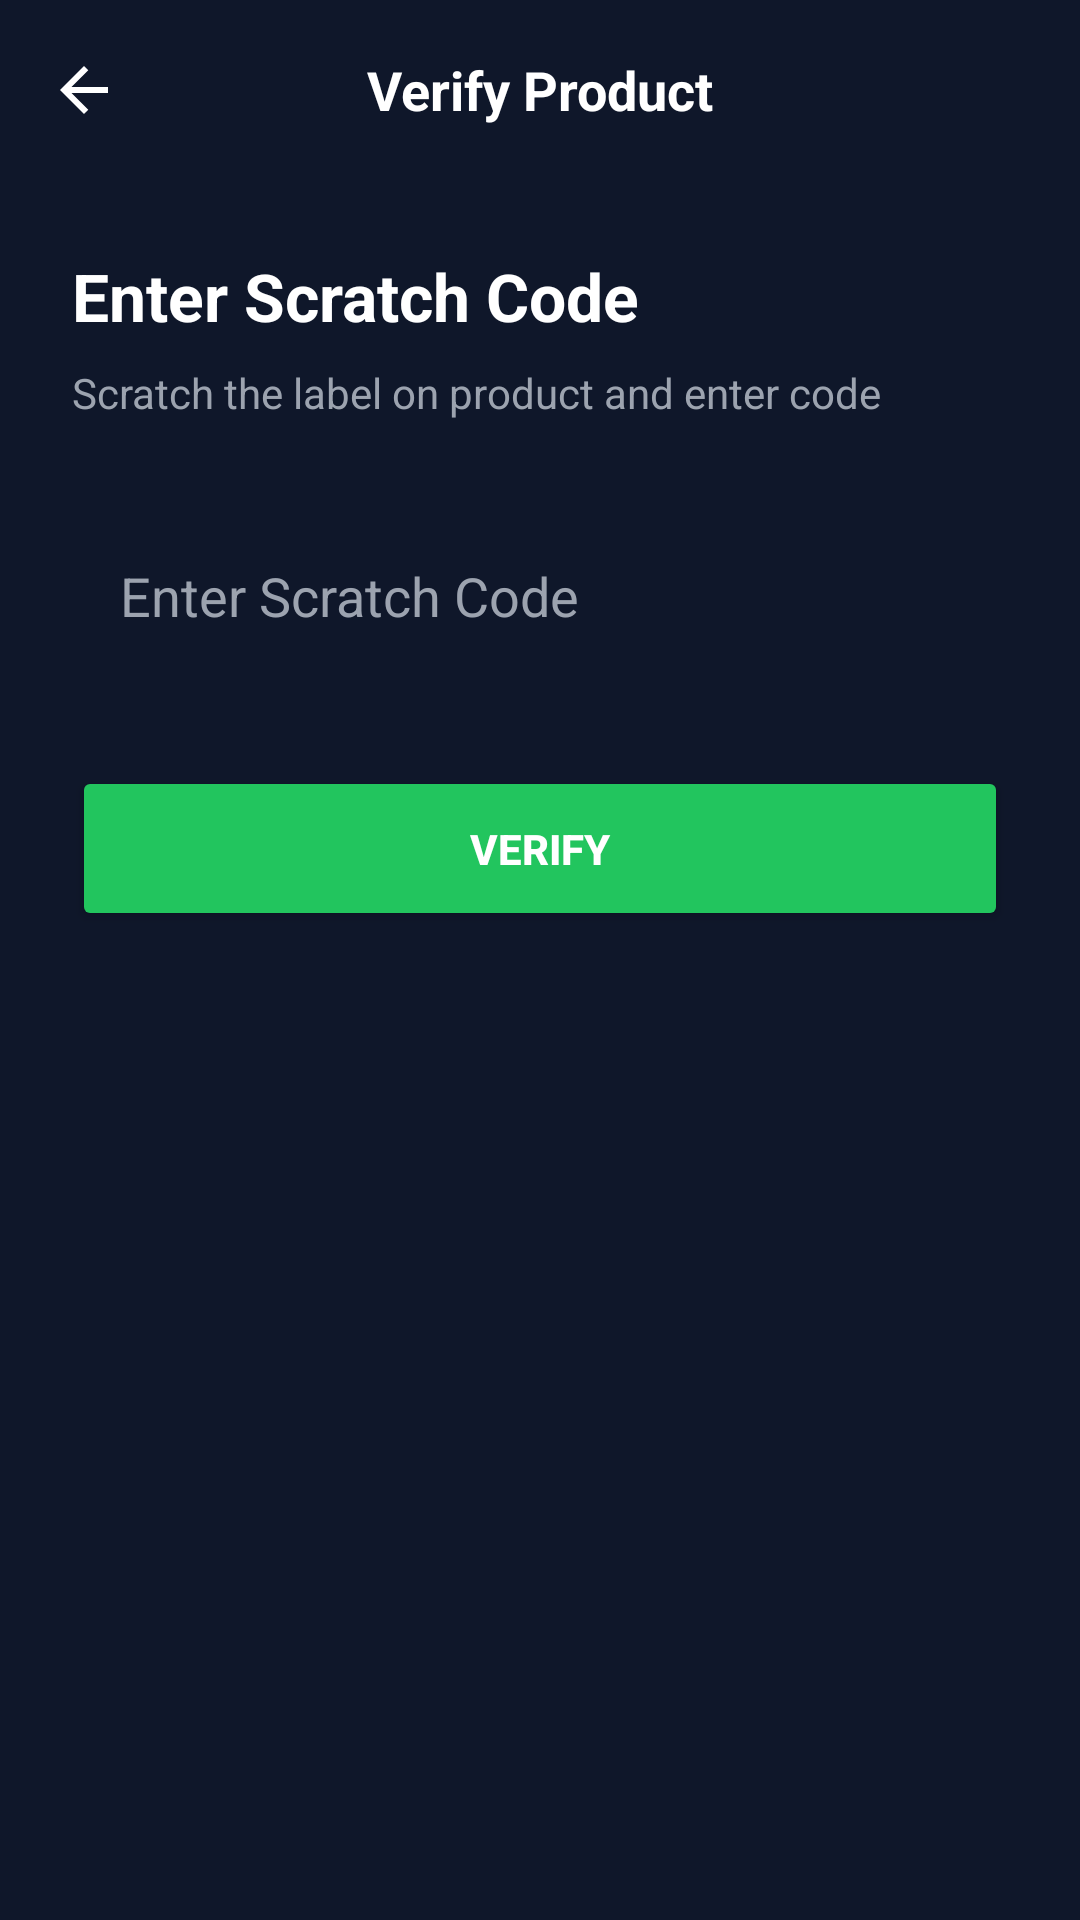

Screen size 1080*1920. Icon name, then its box in pixels as [x1,y1,x2,y2]:
back: [60,66,108,114]
